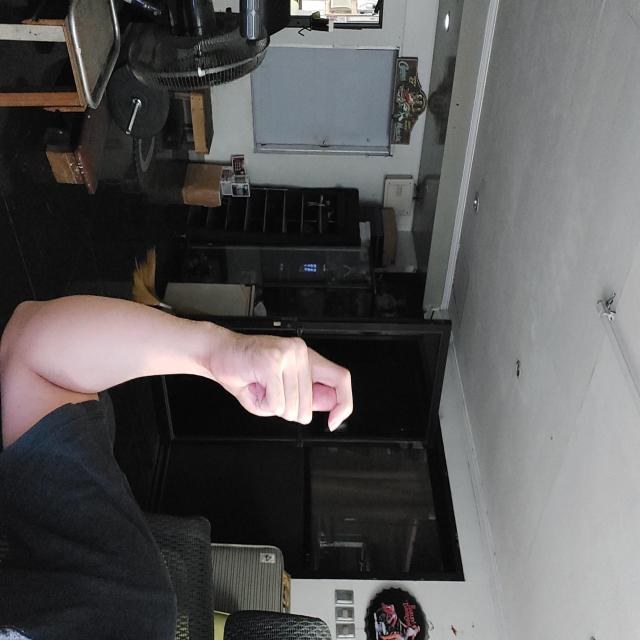T: (331, 287, 432, 429)
